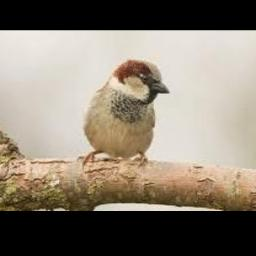Sparrow: (79, 59, 170, 170)
